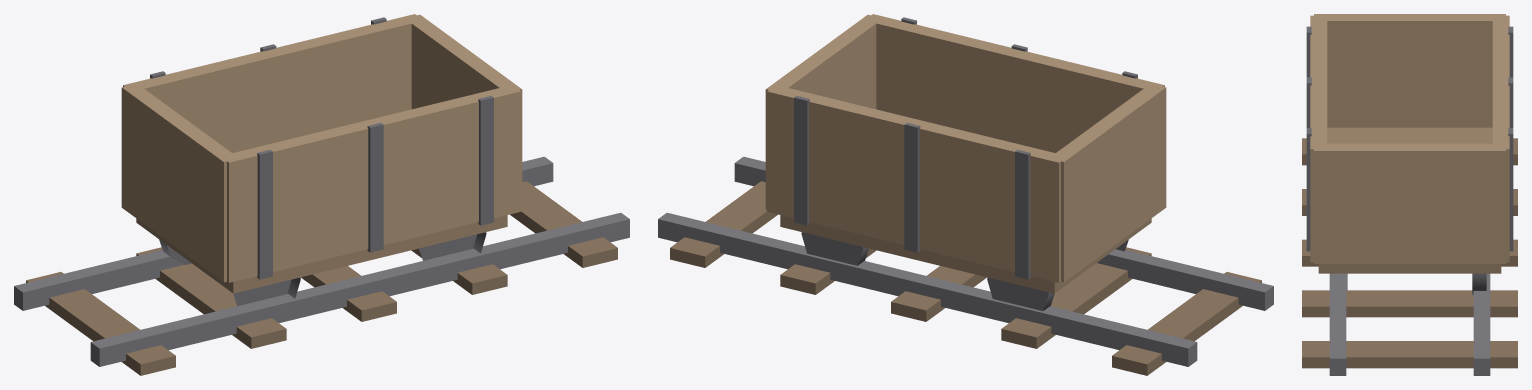
Rendered from minecart.glb.
The picture shows the model from 3 angles, left to right: view 1: azimuth 30°, elevation 25°; view 2: azimuth 150°, elevation 25°; view 3: azimuth 270°, elevation 25°; orthographic projection. The views are drawn at different scales.
Parts seen in each view (by area): view 1: minecart; view 2: minecart; view 3: minecart.
Boxes of the visible parts, x1,y1,x2,y2 form: minecart: (14, 14, 629, 375); minecart: (658, 14, 1273, 375); minecart: (1302, 14, 1517, 375).
Size of the model in its own units: 2.4 by 0.82 by 0.9.
